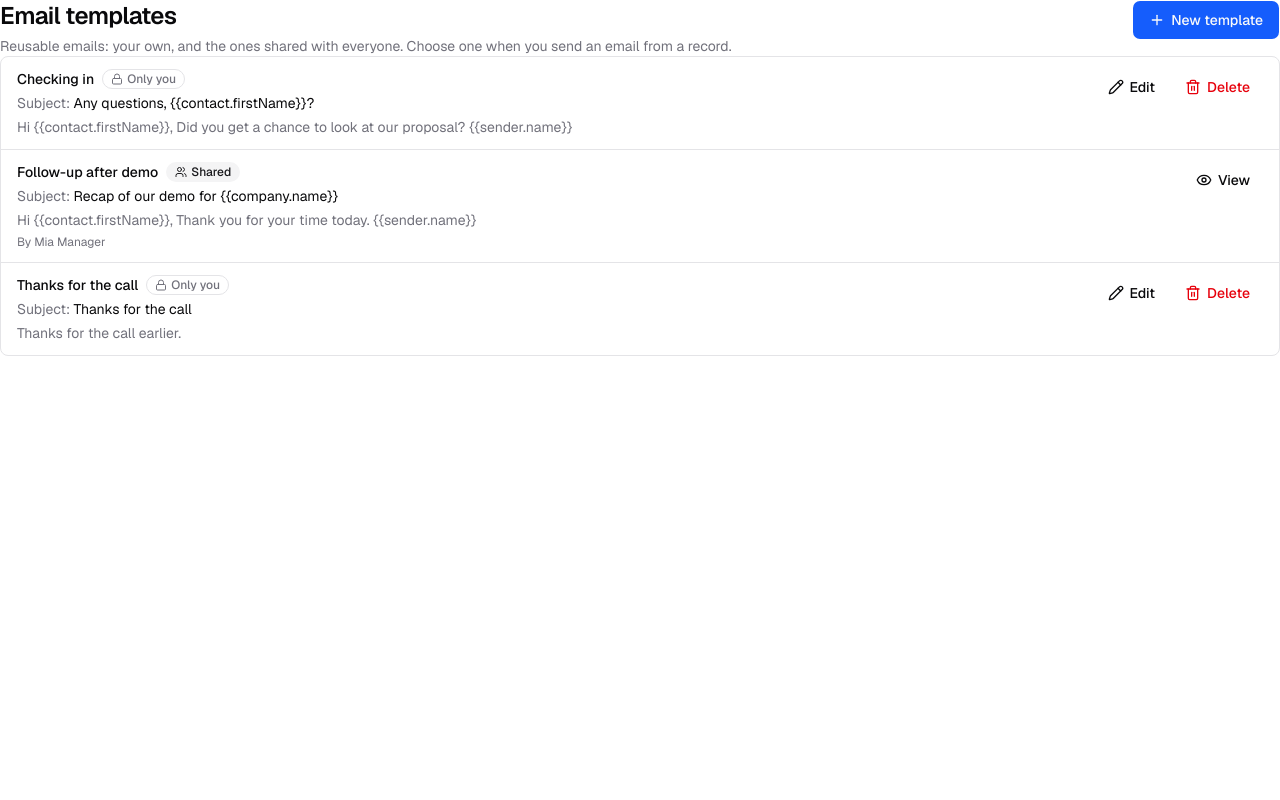
Test case: EmailTemplatesPage › shows a shared template the user may not change, with nothing to edit
The image size is (1280, 800).
Expected: the button "New template" is shown, [1132,0,1279,40]
Click the button with aria-label "View Follow-up after demo": (1223, 180) [1183,162,1263,198]
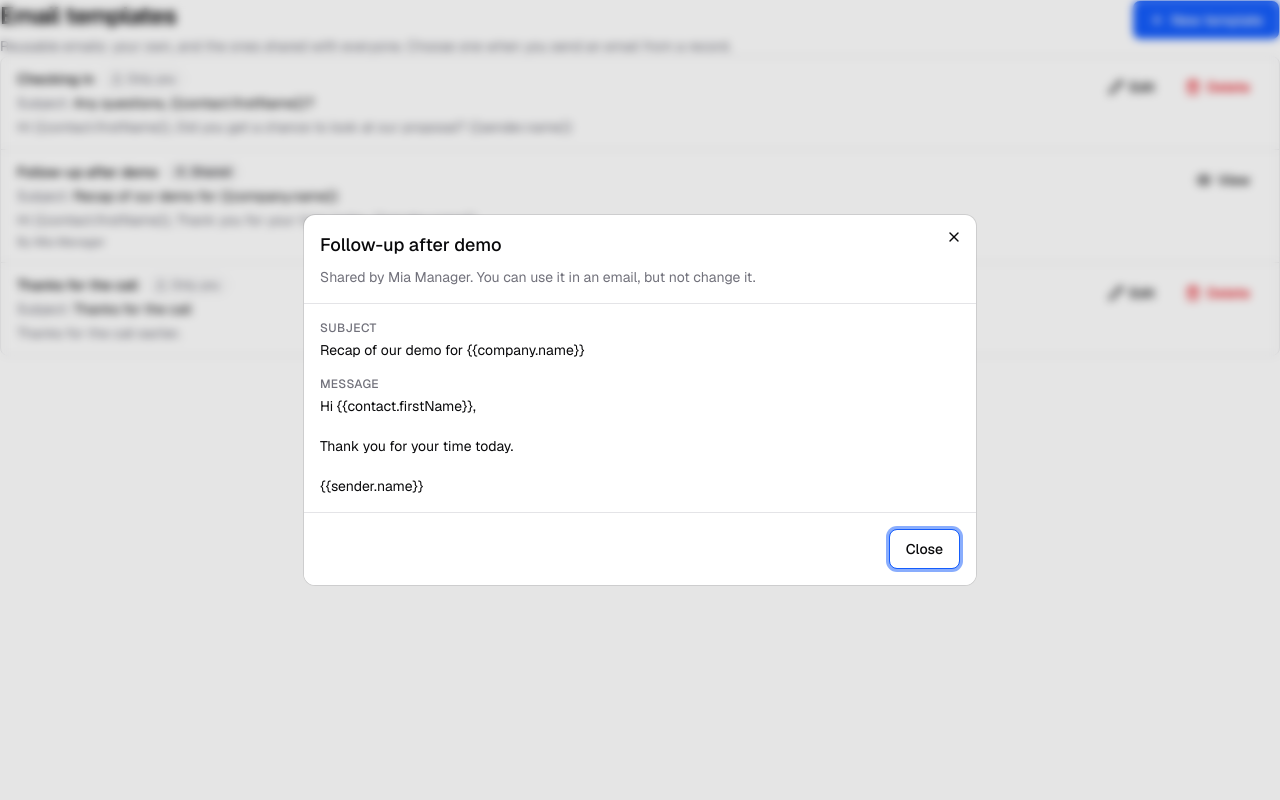
Result: the text "Recap of our demo for {{company.name}}" is shown at [320,341,585,359]
Result: the text "Thank you for your time today" is shown at [320,397,513,495]
